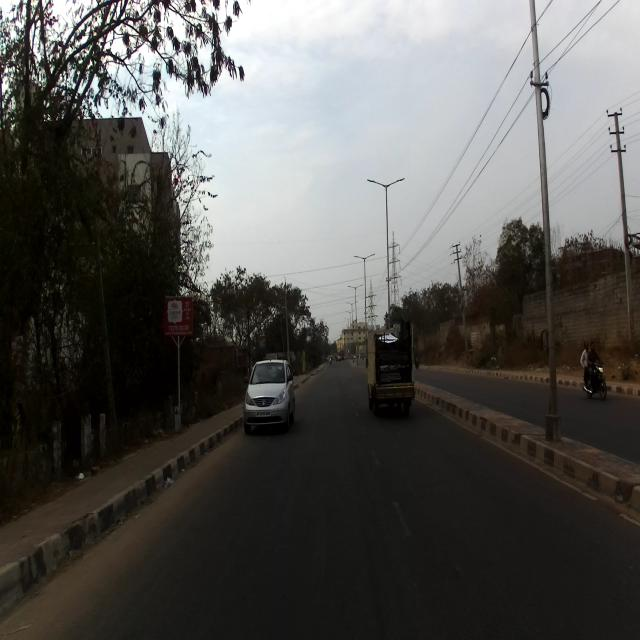car ahead at: (240, 352, 300, 434)
truck ahead at: (364, 310, 418, 418)
